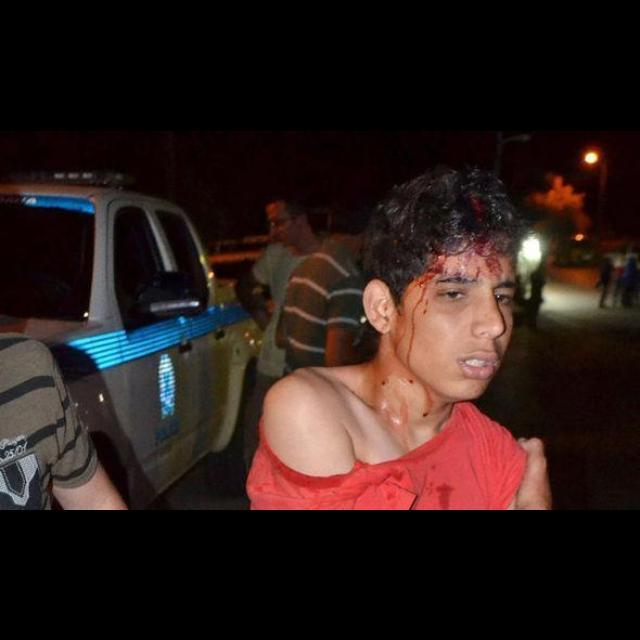blood: (364, 184, 512, 448)
